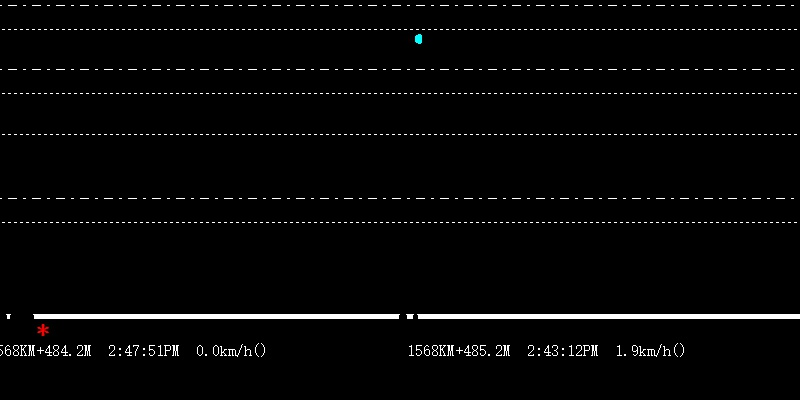face_down: (412, 26, 424, 46)
star: (34, 322, 52, 338)
